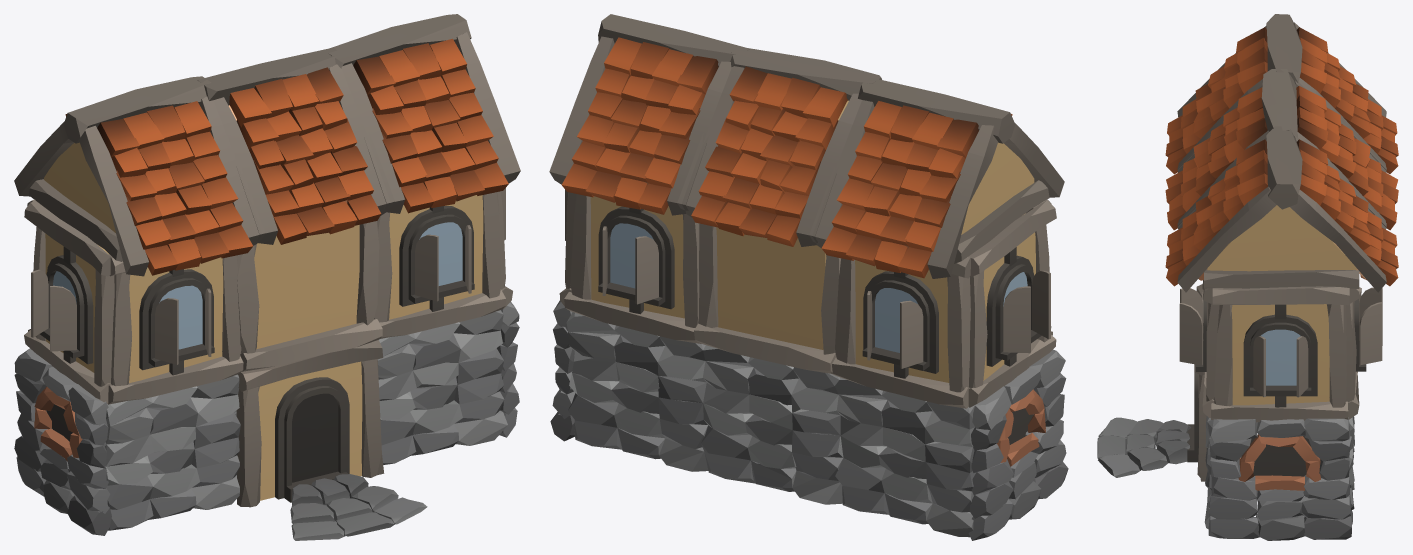
The model's file is mini_building4.fbx.
3 views of the same model, side by side, from view 1: azimuth 30°, elevation 25°; view 2: azimuth 150°, elevation 25°; view 3: azimuth 270°, elevation 25° (orthographic). The views are drawn at different scales.
Parts seen in each view (by area): view 1: mini_building4; view 2: mini_building4; view 3: mini_building4.
Part boxes in pixels (x1,y1,x2,y2): mini_building4: [14, 14, 520, 540]; mini_building4: [549, 14, 1068, 540]; mini_building4: [1097, 14, 1398, 540].
Bounding box in the file's own units: 16.93 × 13.9 × 10.77.
